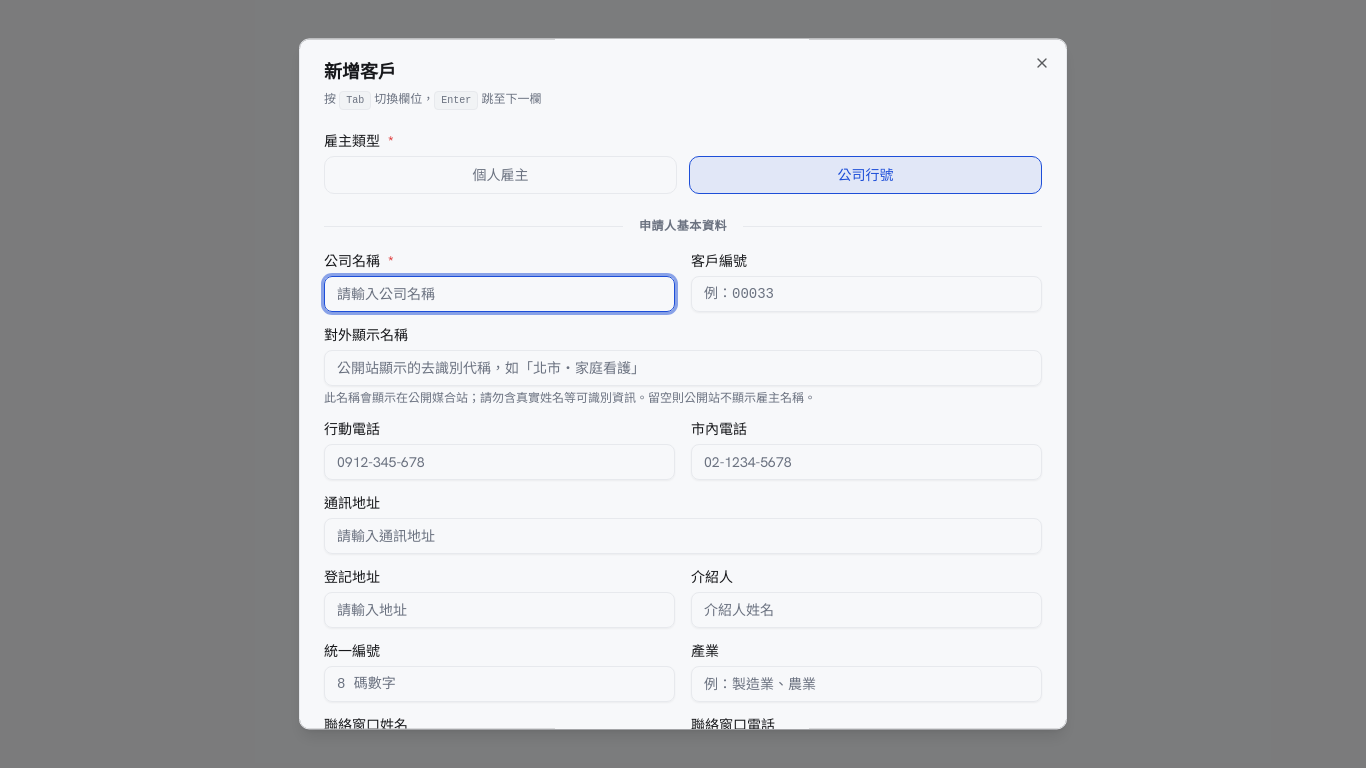
Test: CustomerModal 的必填判斷 › 名稱只有 1 字仍算缺少（門檻是 2 字，不是「有填就好」）
The image size is (1366, 768).
Type "王" into the field with test id "customer-modal-name" at (500, 295), box [324,277,675,313]
(page scrolled)
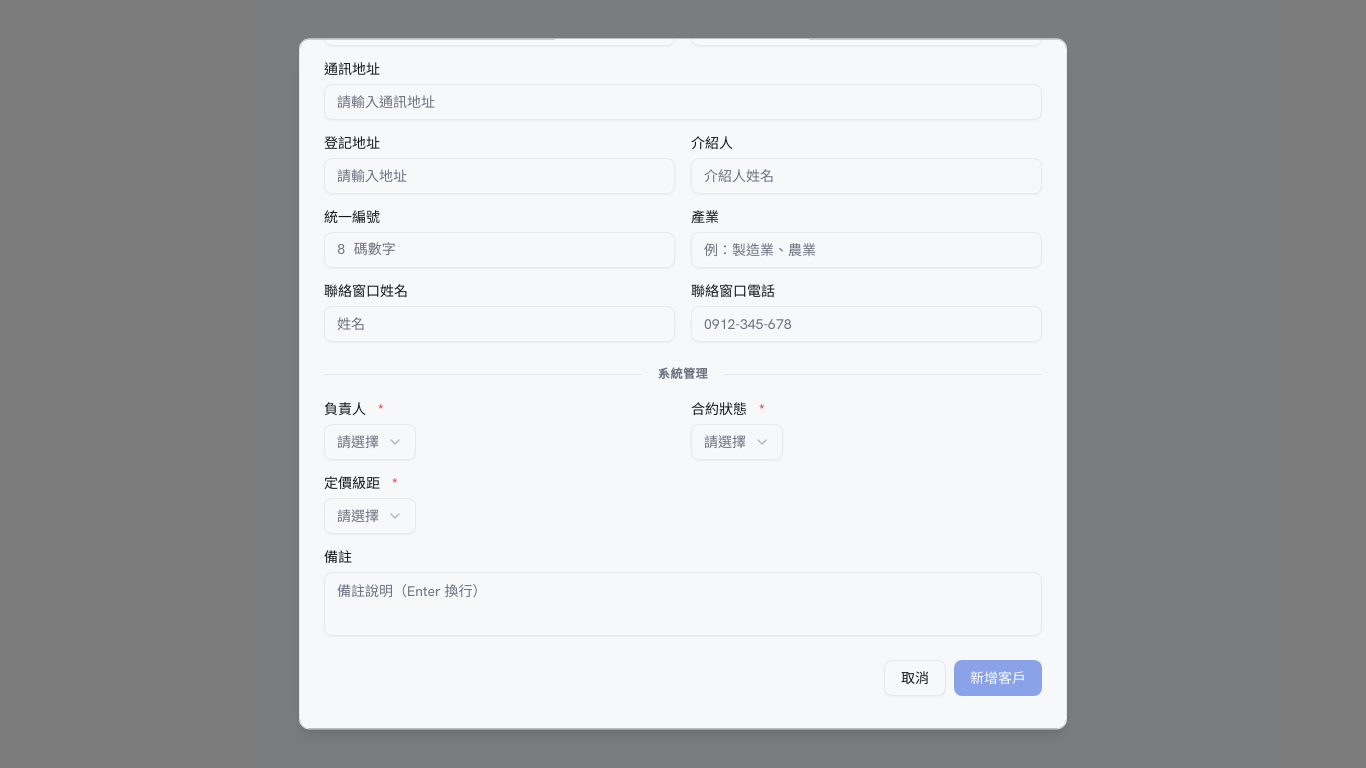
Hover over the element with test id "customer-modal-submit-wrap" at (998, 679), box [954,661,1042,697]
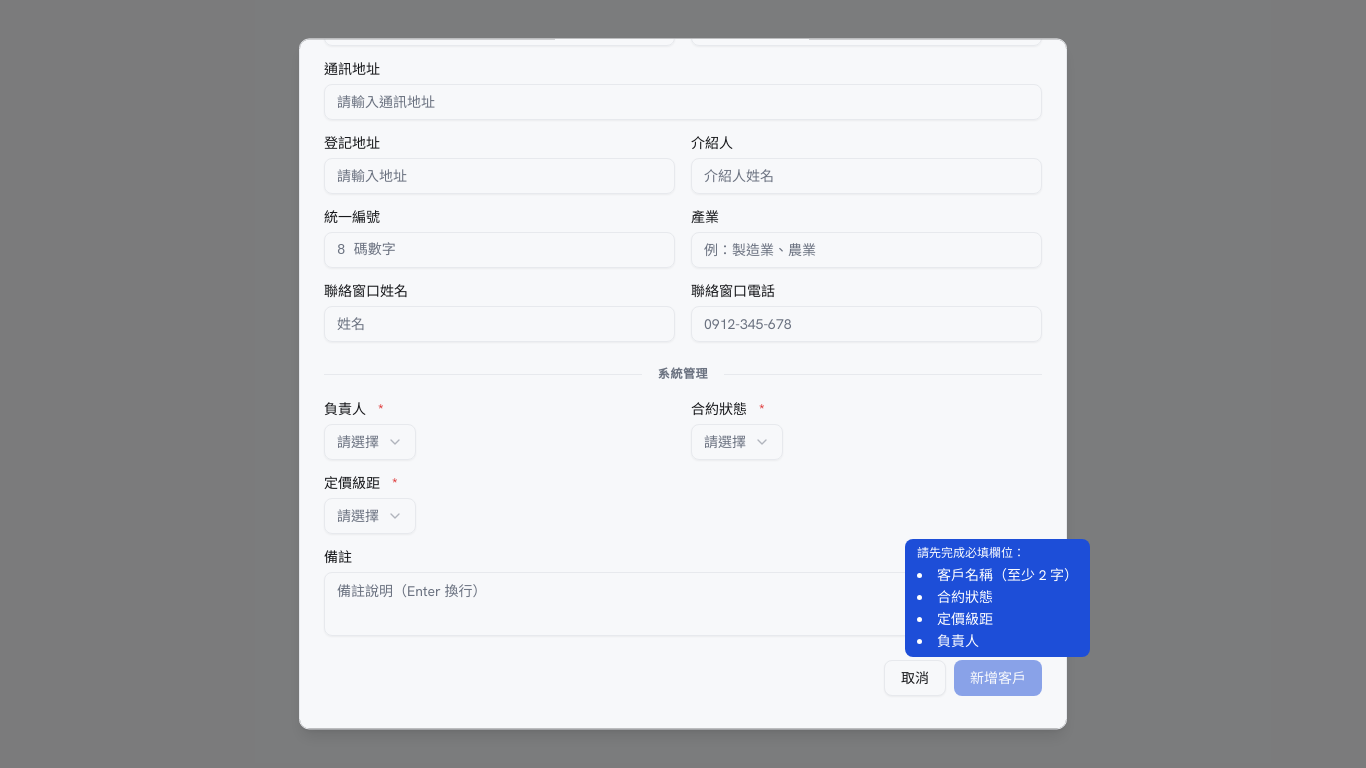
Check: the tooltip shows "客戶名稱", box [937,566,1078,584]
